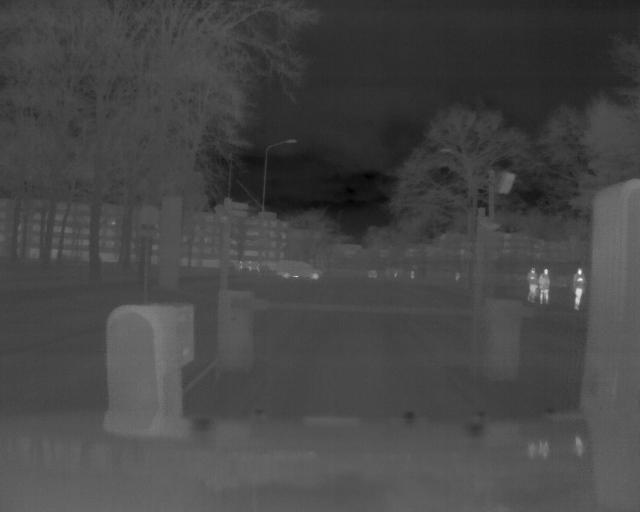car: (275, 257, 326, 282)
person: (571, 268, 587, 311), (538, 266, 554, 307), (526, 263, 540, 303)
